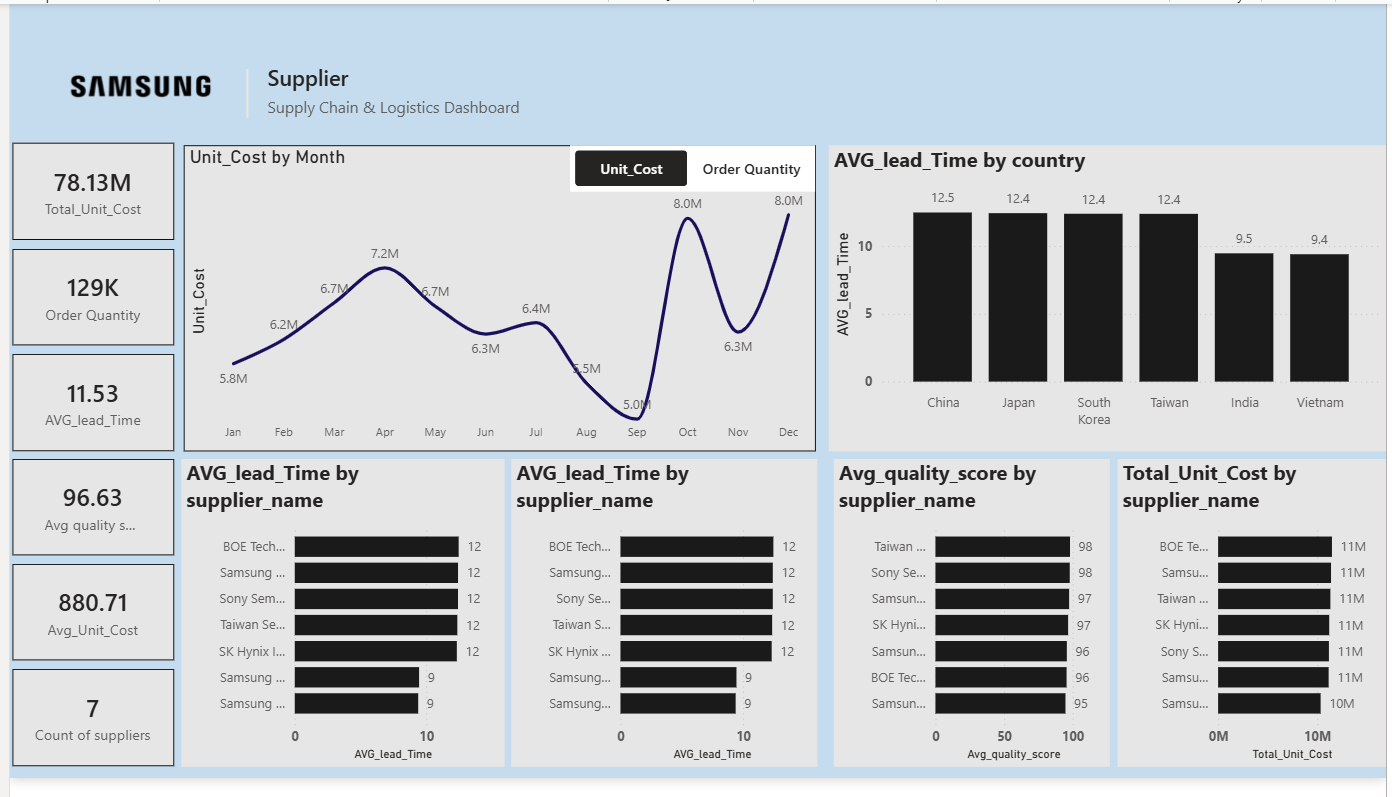

Layout of this report page (visuals, bound fields, positions):
{"tool":"powerbi","page":{"name":"Supplier","canvas":[1280,720],"ordinal":2},"visuals":[{"type":"actionButton","title":"Supplier","box":[239.5,54.7,239.5,66.3],"z":0},{"type":"actionButton","box":[0,0,237.2,152.3],"z":1000},{"type":"shape","box":[199,60.4,43.9,45.3],"z":2000},{"type":"cardVisual","fields":{"Data":["MeasuresTable.Order Quantity"]},"box":[2.3,227.7,150,89.5],"z":3000},{"type":"cardVisual","fields":{"Data":["MeasuresTable.AVG_lead_Time"]},"box":[2.5,325.1,150,90.7],"z":4000},{"type":"cardVisual","fields":{"Data":["CountNonNull(dim_supplier.supplier_id)"]},"box":[2.3,618.6,150,90.7],"z":5000},{"type":"cardVisual","fields":{"Data":["MeasuresTable.Avg_Unit_Cost"]},"box":[2.3,521.2,150,89.5],"z":6000},{"type":"cardVisual","fields":{"Data":["MeasuresTable.Avg_quality_score"]},"box":[2.3,423.3,150,89.5],"z":7000},{"type":"cardVisual","fields":{"Data":["MeasuresTable.Total_Unit_Cost"]},"box":[2.3,129.1,150,90.7],"z":8000},{"type":"clusteredBarChart","fields":{"Y":["MeasuresTable.AVG_lead_Time"],"Category":["dim_supplier.supplier_name"]},"box":[466.3,423.3,284.9,286],"z":9000},{"type":"clusteredBarChart","fields":{"Y":["MeasuresTable.AVG_lead_Time"],"Category":["dim_supplier.supplier_name"]},"box":[159.3,423.3,301.2,286],"z":10000},{"type":"clusteredBarChart","fields":{"Category":["dim_supplier.supplier_name"],"Y":["MeasuresTable.Avg_quality_score"]},"box":[766.3,423.3,257,286],"z":11000},{"type":"columnChart","fields":{"Category":["dim_supplier.country"],"Y":["MeasuresTable.AVG_lead_Time"]},"box":[761.6,131.4,518.6,284.9],"z":12000},{"type":"lineChart","fields":{"Y":["MeasuresTable.Total_Unit_Cost"],"Category":["dim_date.Month_Short"]},"box":[161.8,131.3,587.8,285],"z":13000,"group":"g1"},{"type":"clusteredBarChart","fields":{"Category":["dim_supplier.supplier_name"],"Y":["MeasuresTable.Total_Unit_Cost"]},"box":[1030.2,423.3,250,286],"z":14000},{"type":"advancedSlicerVisual","fields":{"Values":["Cost_Qty_Supplier.Cost_Qty_Supplier"]},"box":[521.4,131.3,227.9,43],"z":15000,"group":"g1"},{"type":"group","id":"g1","title":"Group 1","box":[161.8,131.3,587.8,285],"z":15001}]}

Visuals, with their boxes on the page's 1280x720 design canvas (x1, y1, x2, y2). These are canvas units, not pixel positions in the 1392x797 screenshot, which may show the page scaled, cropped or inside an application window:
"Supplier" actionButton: detection(240, 55, 479, 121)
actionButton: detection(0, 0, 237, 152)
shape: detection(199, 60, 243, 106)
cardVisual - MeasuresTable.Order Quantity: detection(2, 228, 152, 317)
cardVisual - MeasuresTable.AVG_lead_Time: detection(2, 325, 152, 416)
cardVisual - CountNonNull(dim_supplier.supplier_id): detection(2, 619, 152, 709)
cardVisual - MeasuresTable.Avg_Unit_Cost: detection(2, 521, 152, 611)
cardVisual - MeasuresTable.Avg_quality_score: detection(2, 423, 152, 513)
cardVisual - MeasuresTable.Total_Unit_Cost: detection(2, 129, 152, 220)
clusteredBarChart - MeasuresTable.AVG_lead_Time x dim_supplier.supplier_name: detection(466, 423, 751, 709)
clusteredBarChart - MeasuresTable.AVG_lead_Time x dim_supplier.supplier_name: detection(159, 423, 460, 709)
clusteredBarChart - dim_supplier.supplier_name x MeasuresTable.Avg_quality_score: detection(766, 423, 1023, 709)
columnChart - dim_supplier.country x MeasuresTable.AVG_lead_Time: detection(762, 131, 1280, 416)
lineChart - MeasuresTable.Total_Unit_Cost x dim_date.Month_Short: detection(162, 131, 750, 416)
clusteredBarChart - dim_supplier.supplier_name x MeasuresTable.Total_Unit_Cost: detection(1030, 423, 1280, 709)
advancedSlicerVisual - Cost_Qty_Supplier.Cost_Qty_Supplier: detection(521, 131, 749, 174)
"Group 1" group: detection(162, 131, 750, 416)
